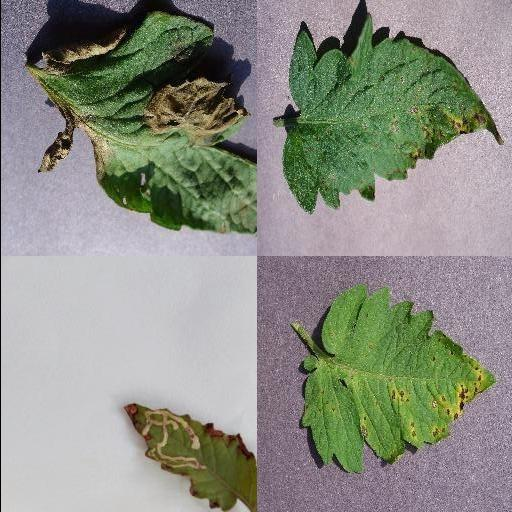Late Blight: (28, 10, 256, 236)
Leaf Miner: (121, 402, 256, 512)
Septoria: (282, 12, 506, 215), (302, 282, 496, 474)
